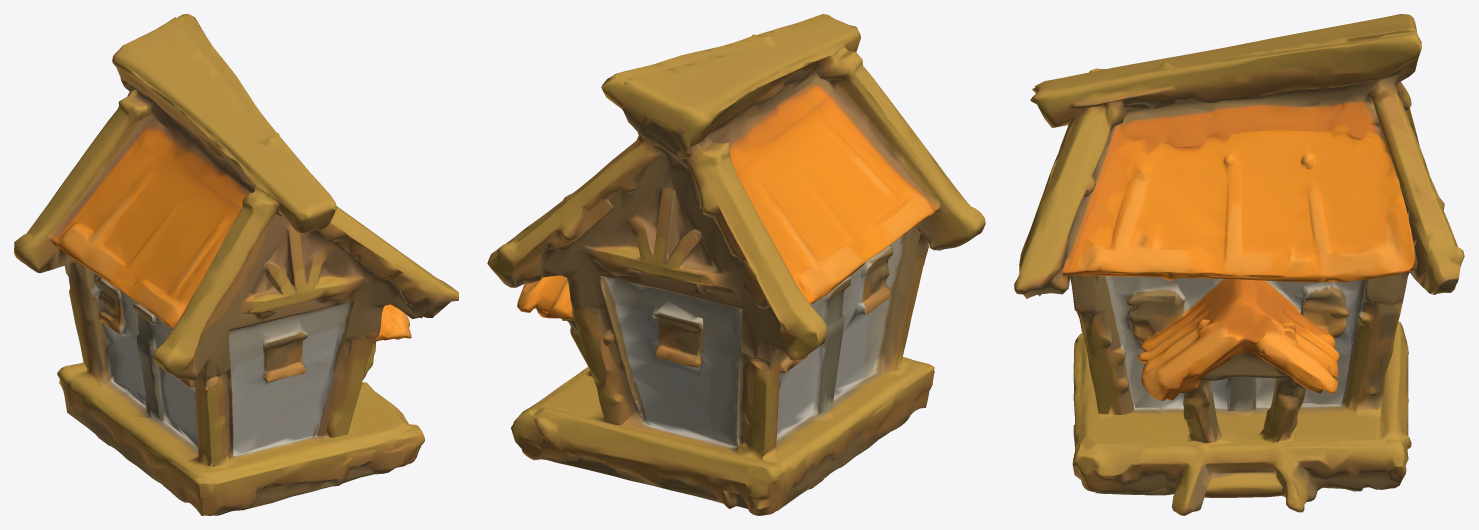
Rendered from resHouse_01.fbx.
3 views of the same model, side by side, from view 1: azimuth 30°, elevation 25°; view 2: azimuth 150°, elevation 25°; view 3: azimuth 270°, elevation 25° (orthographic). The views are drawn at different scales.
Parts seen in each view (by area): view 1: tripo_node_7c821851-7f62-4aca-94af-837055609f76; view 2: tripo_node_7c821851-7f62-4aca-94af-837055609f76; view 3: tripo_node_7c821851-7f62-4aca-94af-837055609f76.
Boxes of the visible parts, x1,y1,x2,y2 form: tripo_node_7c821851-7f62-4aca-94af-837055609f76: [14, 14, 458, 515]; tripo_node_7c821851-7f62-4aca-94af-837055609f76: [487, 14, 985, 515]; tripo_node_7c821851-7f62-4aca-94af-837055609f76: [1014, 14, 1464, 515].
Size of the model in its own units: 82.81 by 97.81 by 95.3.
1 material, 1 textured.
